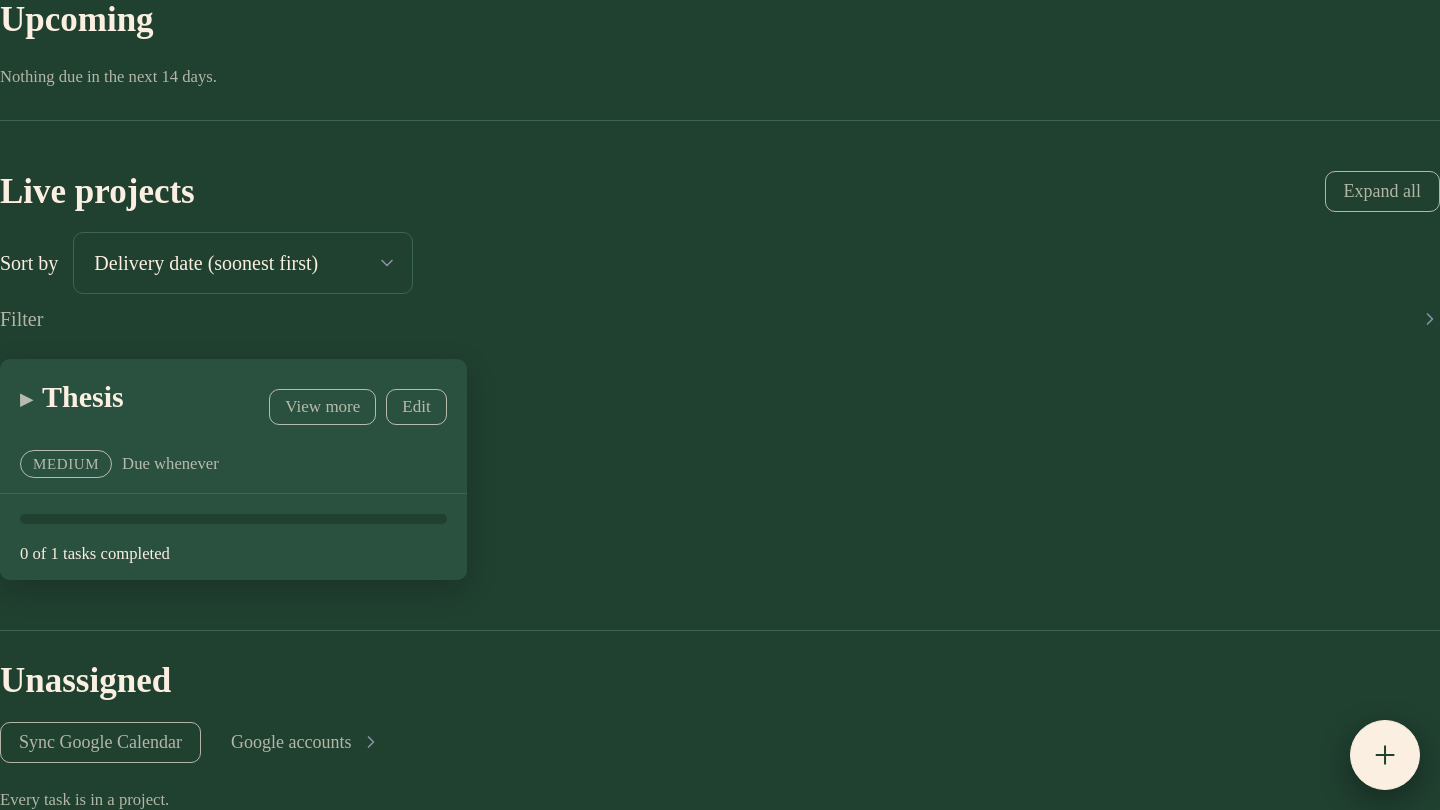
Test: Dashboard editing a task › shows an error and keeps the task as it was when marking it done fails
The width and height of the screenshot is (1440, 810).
Click the button with class "tile-toggle" at coordinates (72, 397), box [20,379,124,415]
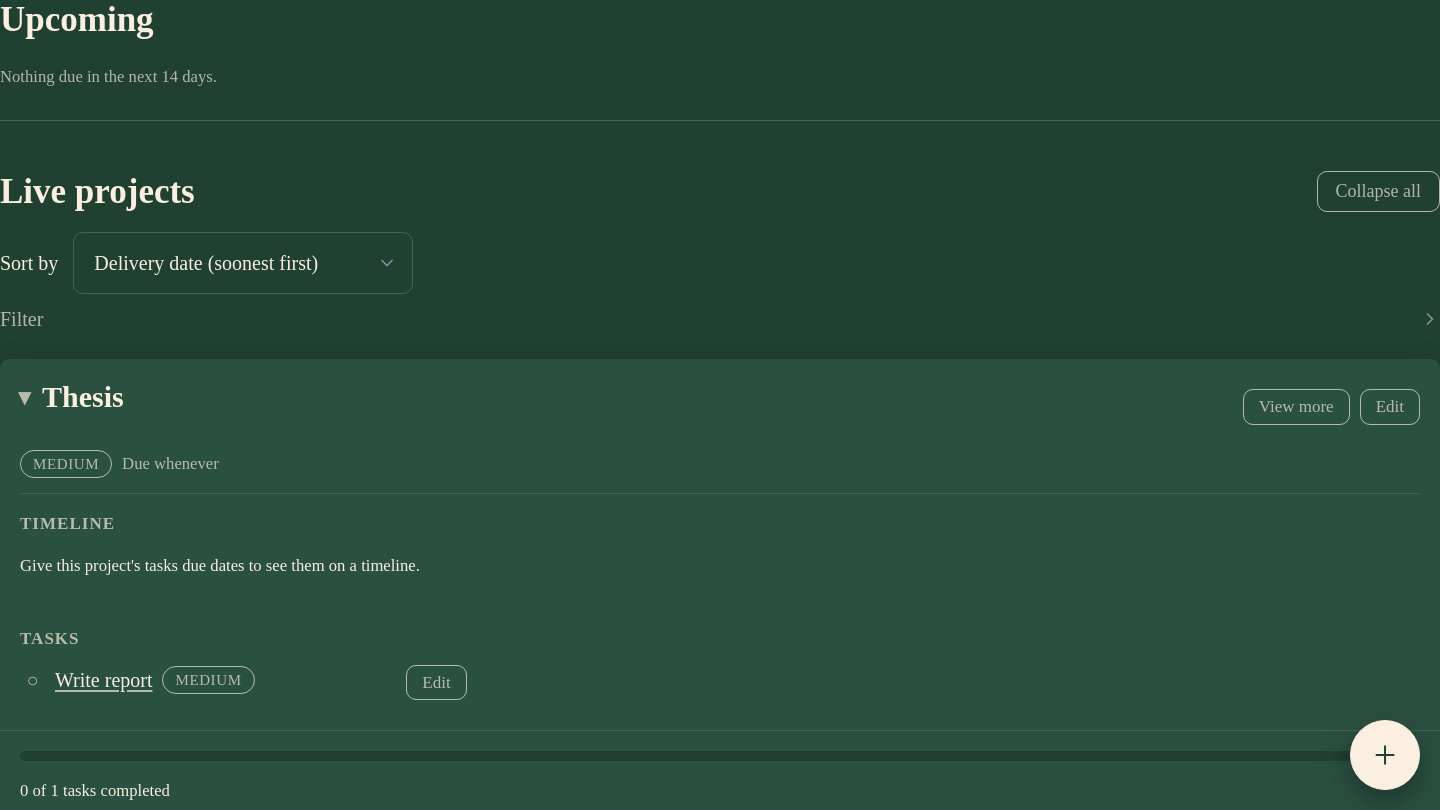
Click the button named "Done: Write report" at coordinates (32, 680), box [20,665,45,695]
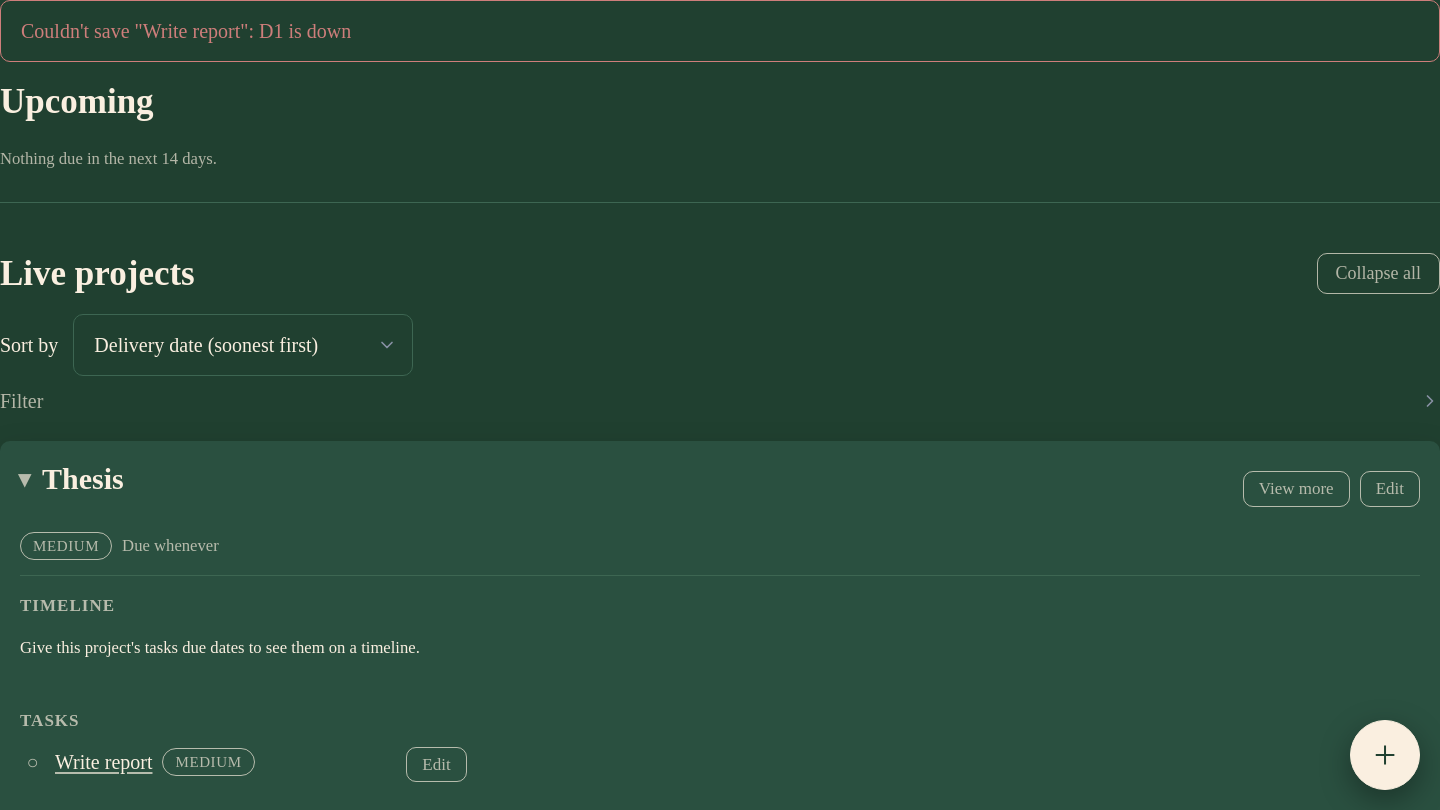
Now the message "Couldn't save \"Write report\": D1 is down" reads "Couldn't save \"Write report\": D1 is down", box [21,20,351,42]
